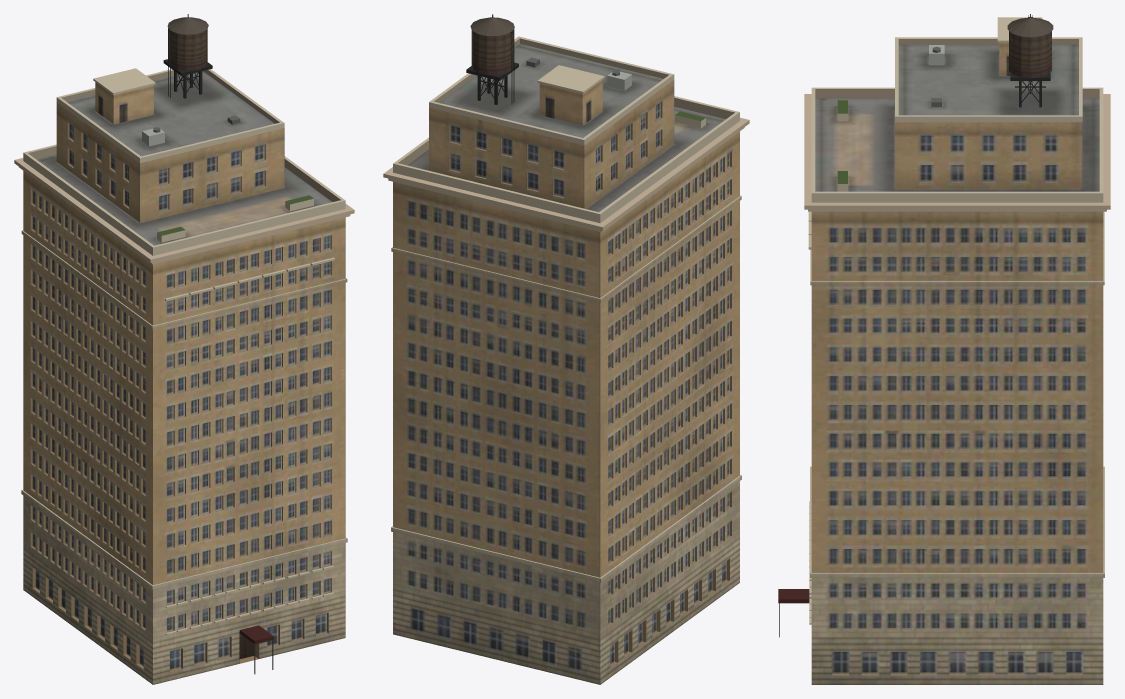
File: nyc_prewar_b.glb
3 views of the same model, side by side, from view 1: azimuth 30°, elevation 25°; view 2: azimuth 150°, elevation 25°; view 3: azimuth 270°, elevation 25° (orthographic). The views are drawn at different scales.
Parts seen in each view (by area): view 1: nyc_prewar_b; view 2: nyc_prewar_b; view 3: nyc_prewar_b.
Boxes of the visible parts, x1=… form: nyc_prewar_b: x1=14, y1=14, x2=354, y2=684; nyc_prewar_b: x1=383, y1=14, x2=749, y2=684; nyc_prewar_b: x1=778, y1=14, x2=1110, y2=684.
Bounding box in the file's own units: 25.4 × 67.5 × 31.9.
1 material, 1 textured.
